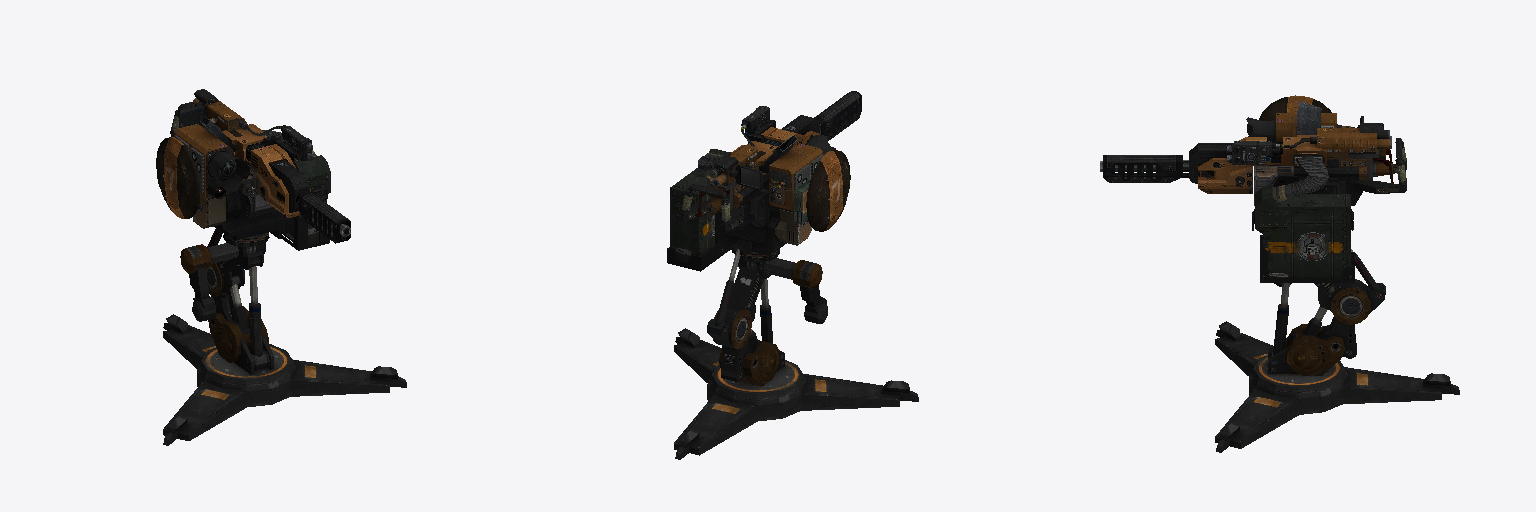
The picture shows the model from 3 angles: view 1: azimuth 30°, elevation 25°; view 2: azimuth 150°, elevation 25°; view 3: azimuth 270°, elevation 25°; orthographic projection.
Visible parts, largest first — view 1: MCOR_Sentry_Turet:Mesh; view 2: MCOR_Sentry_Turet:Mesh; view 3: MCOR_Sentry_Turet:Mesh.
Boxes of the visible parts, box(x1,y1,x2,y2) form: MCOR_Sentry_Turet:Mesh: box(156, 89, 406, 445); MCOR_Sentry_Turet:Mesh: box(667, 91, 918, 459); MCOR_Sentry_Turet:Mesh: box(1100, 95, 1459, 452).
Bounding box in the file's own units: 2.81 × 3.03 × 3.59.
2 materials, 2 textured.